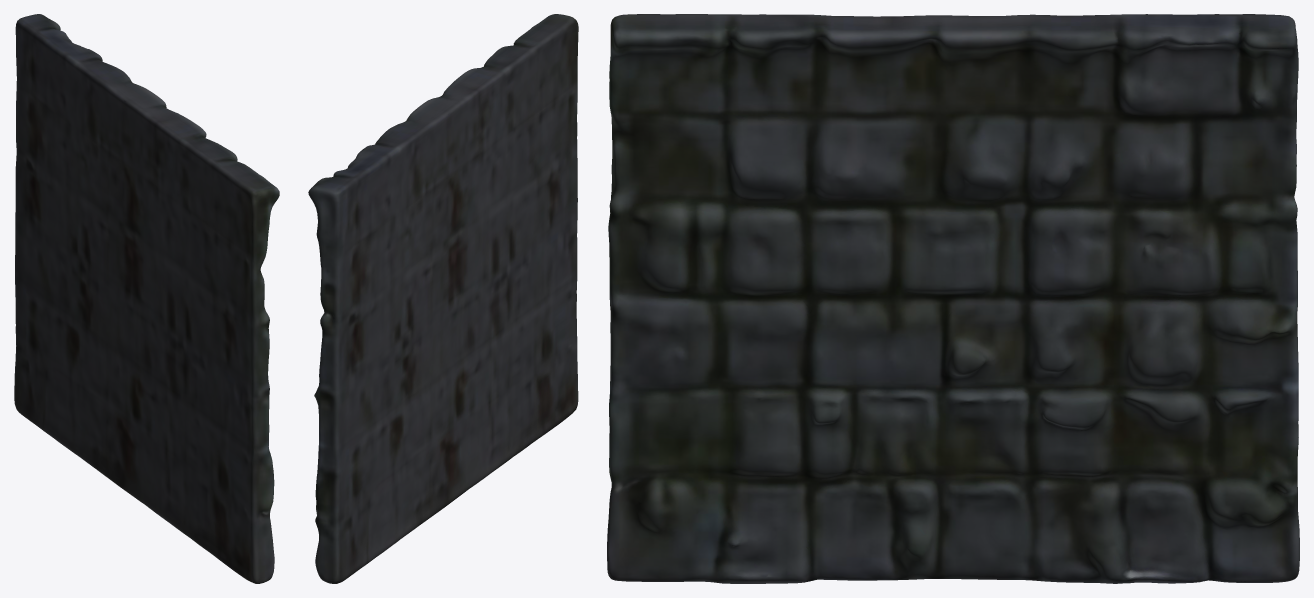
The model's file is A_structural_damage_patch_re_0_glb_2.gltf.
The picture shows the model from 3 angles, left to right: view 1: azimuth 30°, elevation 25°; view 2: azimuth 150°, elevation 25°; view 3: azimuth 270°, elevation 25°; orthographic projection. The views are drawn at different scales.
Visible parts, largest first — view 1: world; view 2: world; view 3: world.
Boxes of the visible parts, left/top/right/bottom form: world: left=14, top=14, right=279, bottom=583; world: left=308, top=14, right=578, bottom=583; world: left=607, top=14, right=1299, bottom=583.
Size of the model in its own units: 0.0361 by 0.4074 by 0.4567.
Materials: 1 (1 with a texture image).
